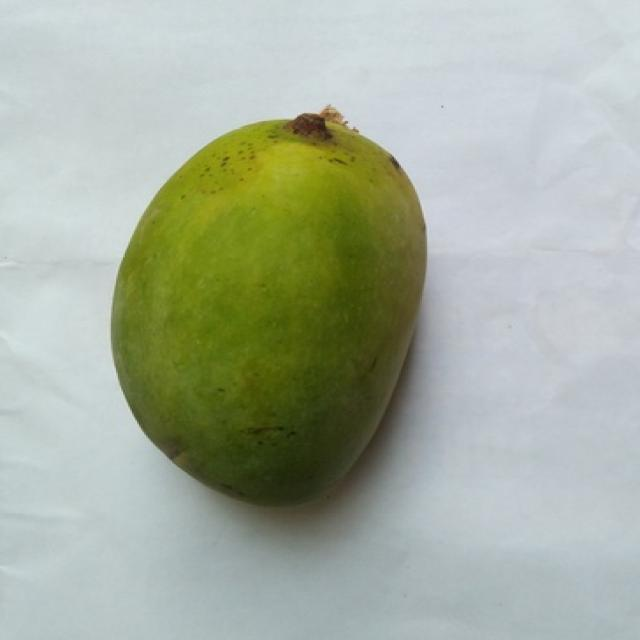Mango: (111, 114, 425, 505)
